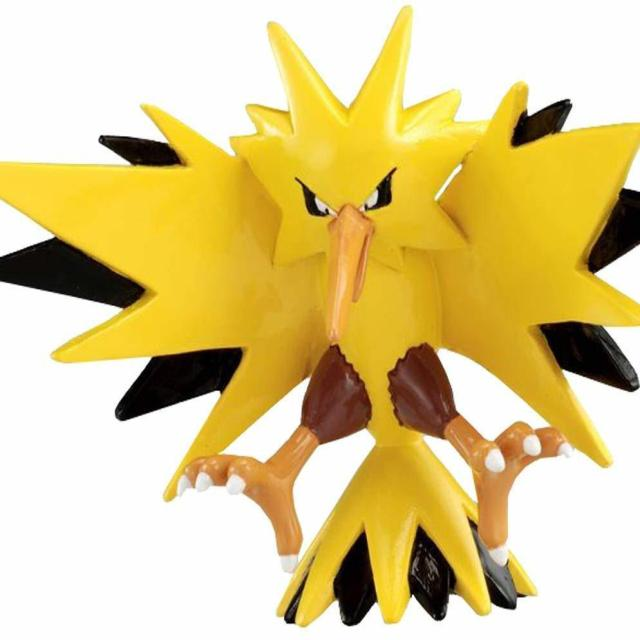Zapdos: (170, 35, 610, 629)
